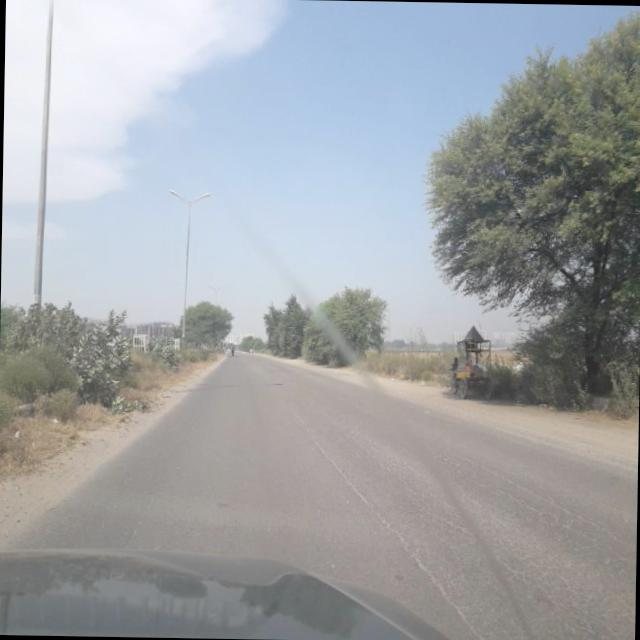crack: (442, 455, 637, 640)
pothole: (296, 412, 485, 640)
